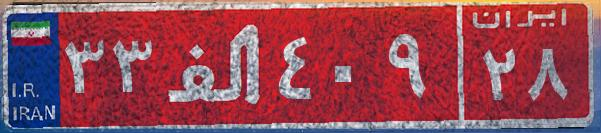0: (330, 28, 385, 110)
2: (475, 38, 525, 113)
3: (57, 26, 110, 107), (110, 28, 158, 105)
4: (273, 28, 330, 110)
8: (525, 38, 570, 115)
9: (385, 28, 445, 110)
الف: (158, 15, 273, 115)
